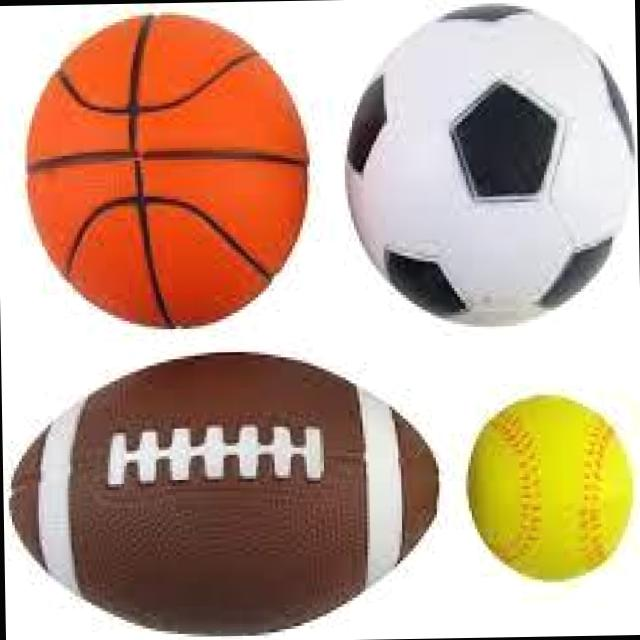Soccer Ball: (349, 0, 640, 325)
